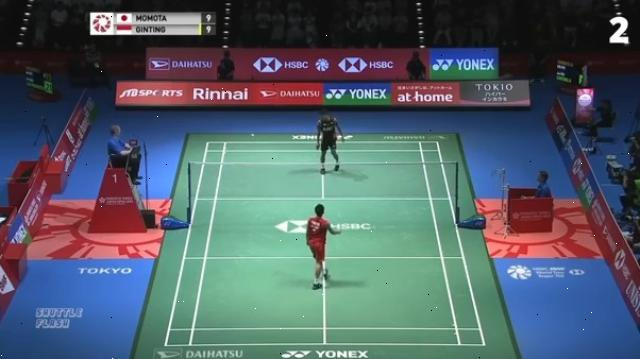Shuttlecock: (250, 130, 258, 140)
